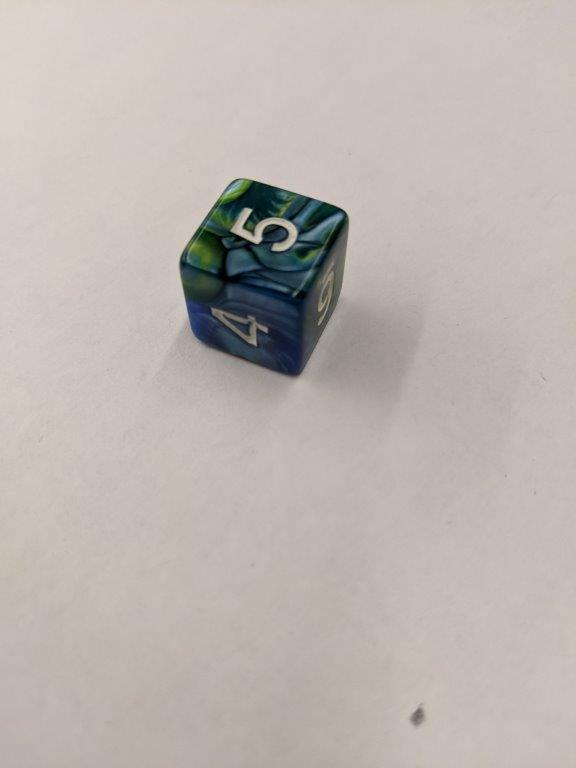d6-5: (177, 175, 350, 377)
